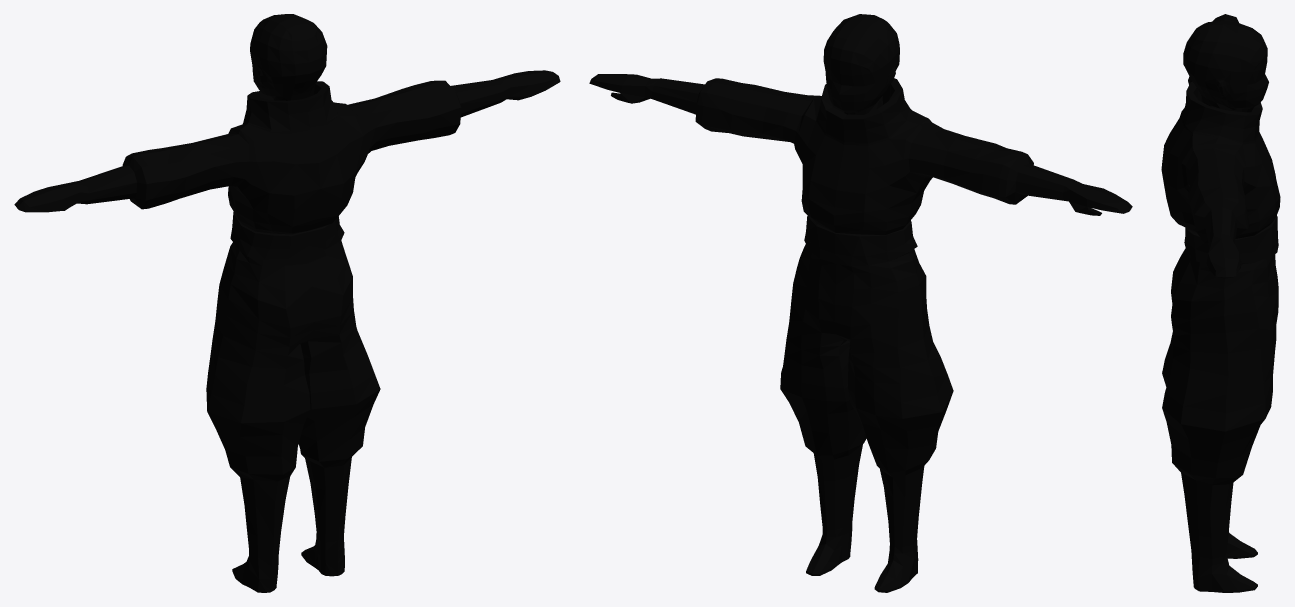
File: CharSkyNPC_Body_MusicianRigGhost.glb
3 views of the same model, side by side, from view 1: azimuth 30°, elevation 25°; view 2: azimuth 150°, elevation 25°; view 3: azimuth 270°, elevation 25° (orthographic).
Visible parts, largest first — view 1: CharSkyNPC_Body_MusicianRigGhost; view 2: CharSkyNPC_Body_MusicianRigGhost; view 3: CharSkyNPC_Body_MusicianRigGhost.
Boxes of the visible parts, x1=… form: CharSkyNPC_Body_MusicianRigGhost: x1=14, y1=14, x2=560, y2=592; CharSkyNPC_Body_MusicianRigGhost: x1=589, y1=14, x2=1132, y2=592; CharSkyNPC_Body_MusicianRigGhost: x1=1161, y1=14, x2=1280, y2=592.
Bounding box in the file's own units: 14.33 × 14.02 × 2.77.
Materials: 1 (1 with a texture image).
